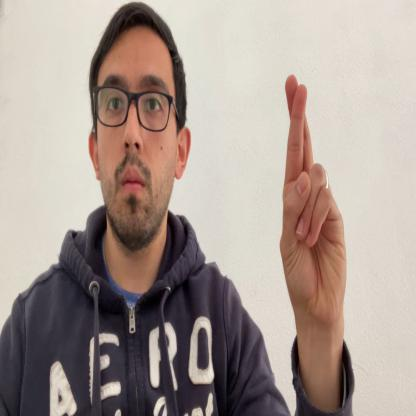R: (280, 75, 347, 326)
